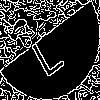L: (25, 25, 66, 79)
